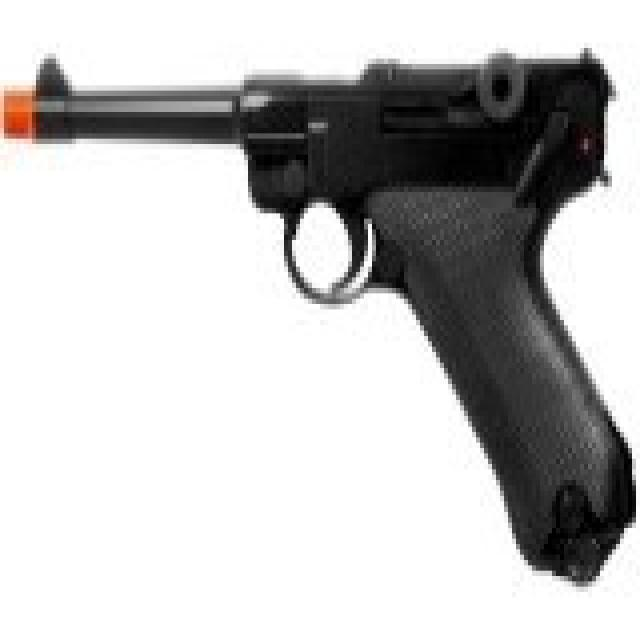Gun: (5, 27, 638, 575)
